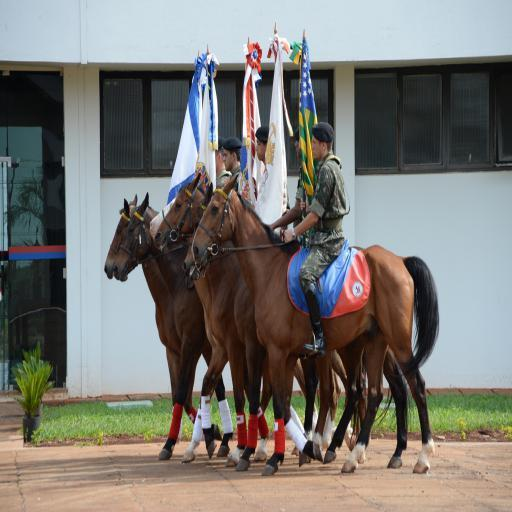horse: (104, 171, 440, 476)
